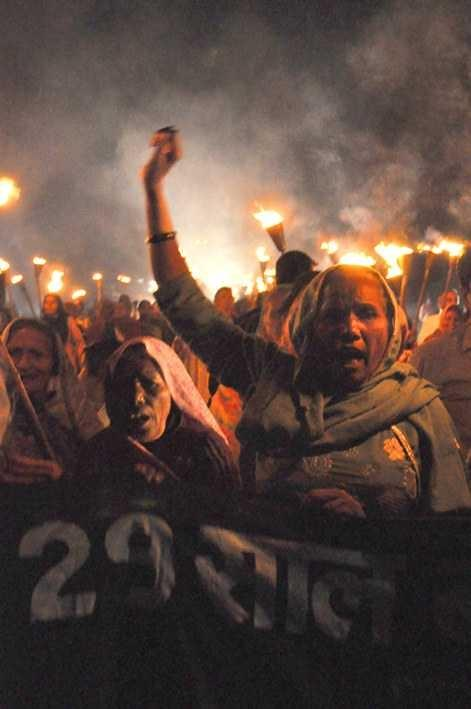fire: (336, 236, 471, 270), (30, 260, 93, 306), (250, 200, 298, 236), (0, 165, 20, 234)
